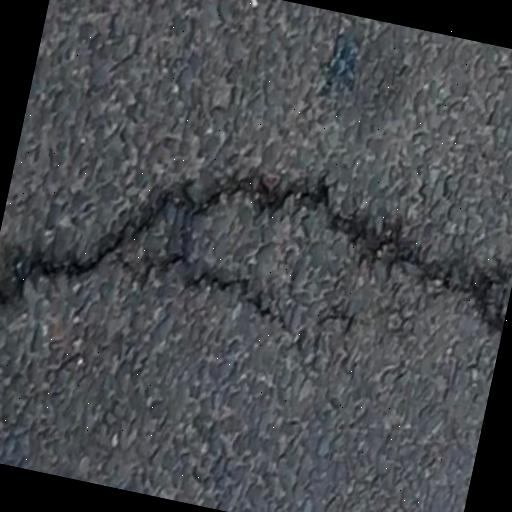spalling: (0, 175, 503, 340)
